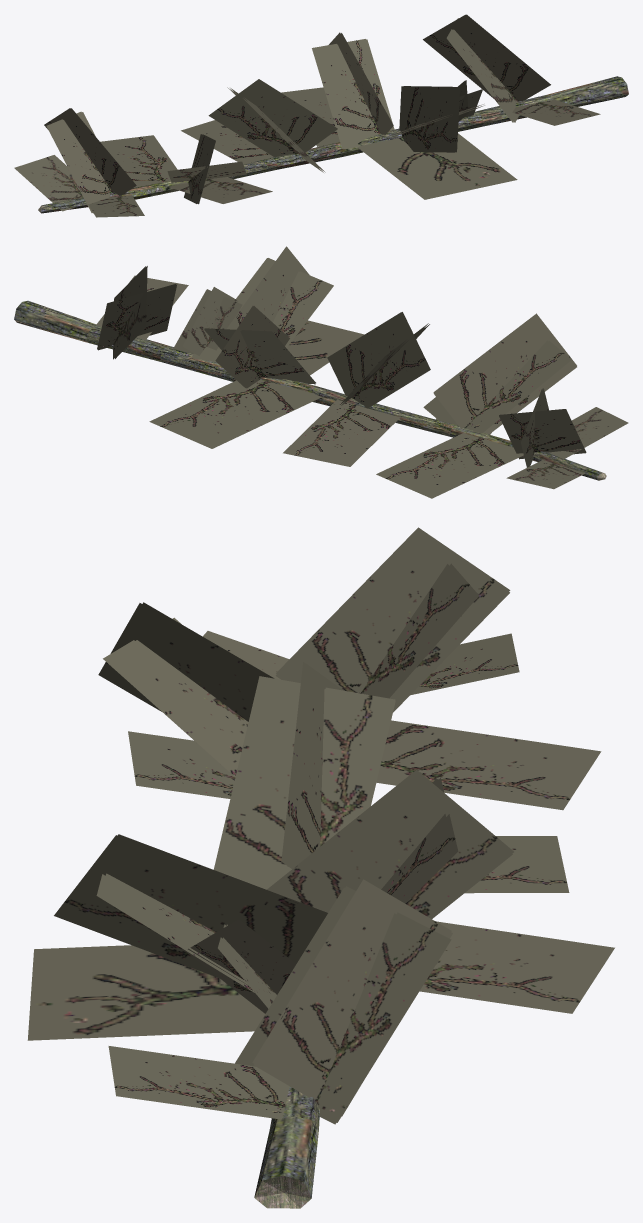
The model's file is fallen-2.glb.
The picture shows the model from 3 angles, top to bottom: view 1: azimuth 30°, elevation 25°; view 2: azimuth 150°, elevation 25°; view 3: azimuth 270°, elevation 25°; orthographic projection. The views are drawn at different scales.
Visible parts, largest first — view 1: fallen-2; view 2: fallen-2; view 3: fallen-2.
Boxes of the visible parts, x1,y1,x2,y2 form: fallen-2: (14,14,628,217); fallen-2: (14,246,628,498); fallen-2: (27,527,614,1208).
Size of the model in its own units: 14.68 by 2.6 by 6.63.
1 material, 1 textured.
